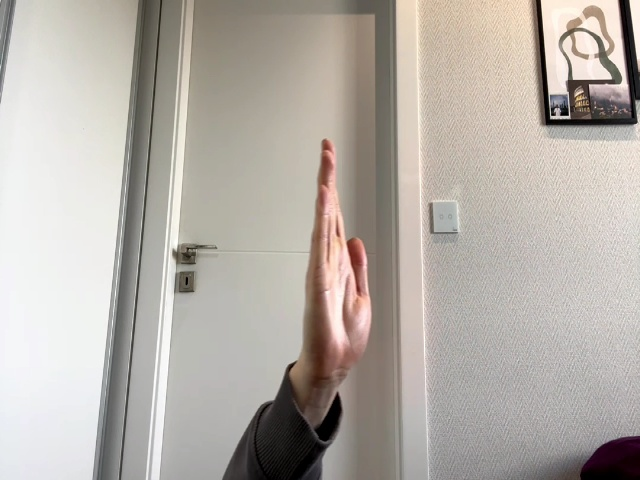SZ: (302, 139, 372, 391)
